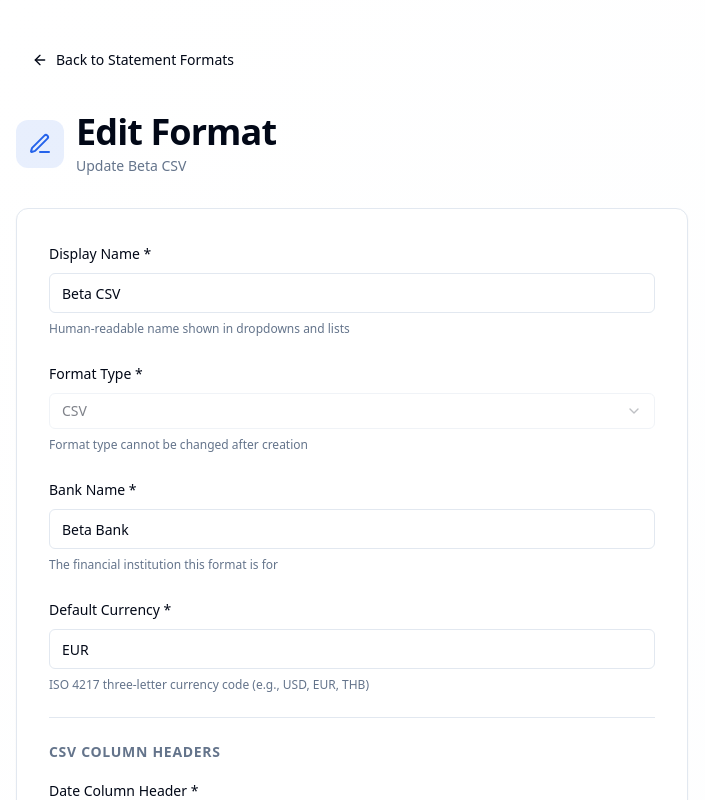
Test case: StatementFormatEditPage › renders an API error banner when update fails
Expected: the field showing "Beta CSV" is shown, [49, 273, 655, 313]
Replace the text in the field labelled "Bank Name *" with "Beta Credit" at (352, 529), box [49, 509, 655, 549]
(page scrolled)
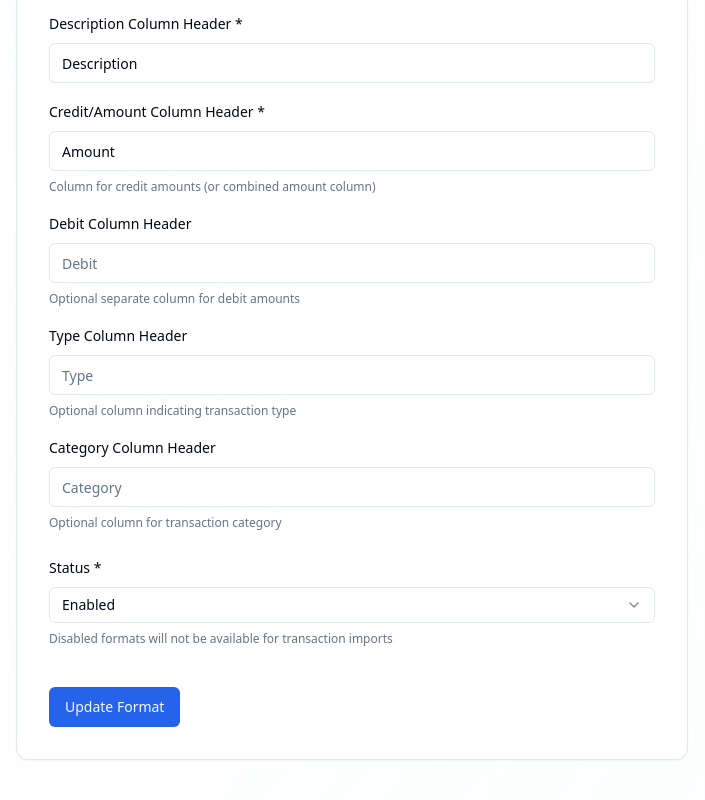
Click the button "Update Format" at (115, 707), box [49, 687, 180, 727]
(page scrolled)
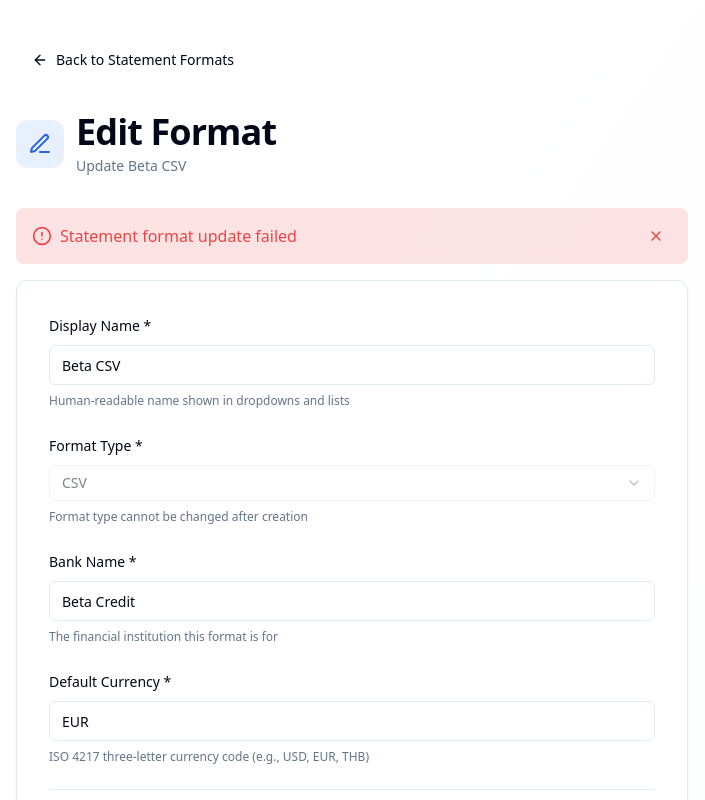
Expected: the heading "Edit Format" is shown, [76, 112, 276, 152]
Now the text "Statement format update failed" is shown, box [60, 224, 297, 248]
